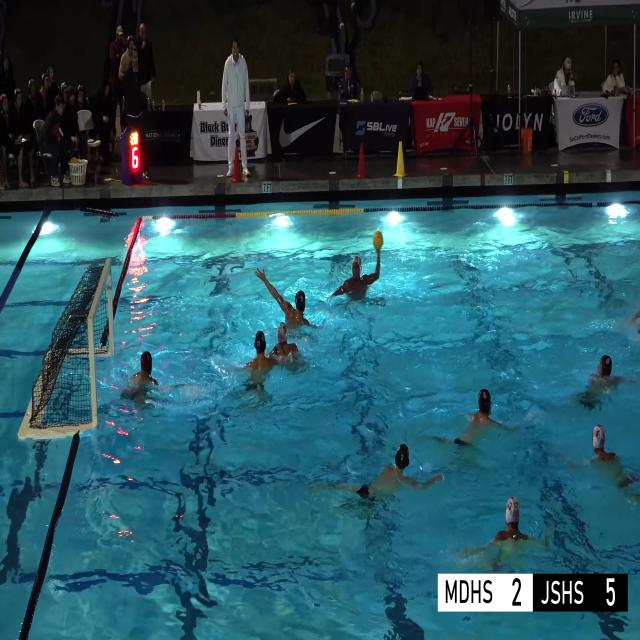ball: (373, 230, 383, 250), (70, 157, 79, 163)
